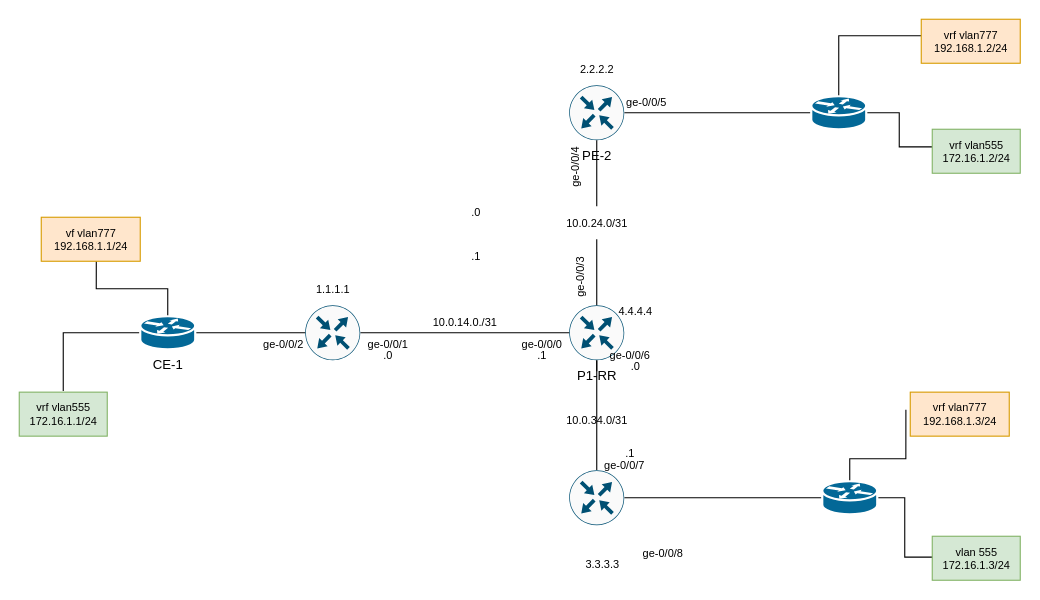
Some shapes in this 1040 by 600 pixel diagram are drawn without their labels. The centre of each missing label's shape, as x and y in pixels:
CE-2: the point at 838,112
CE-3: the point at 849,497
PE-1: the point at 332,332
PE-3: the point at 596,497
